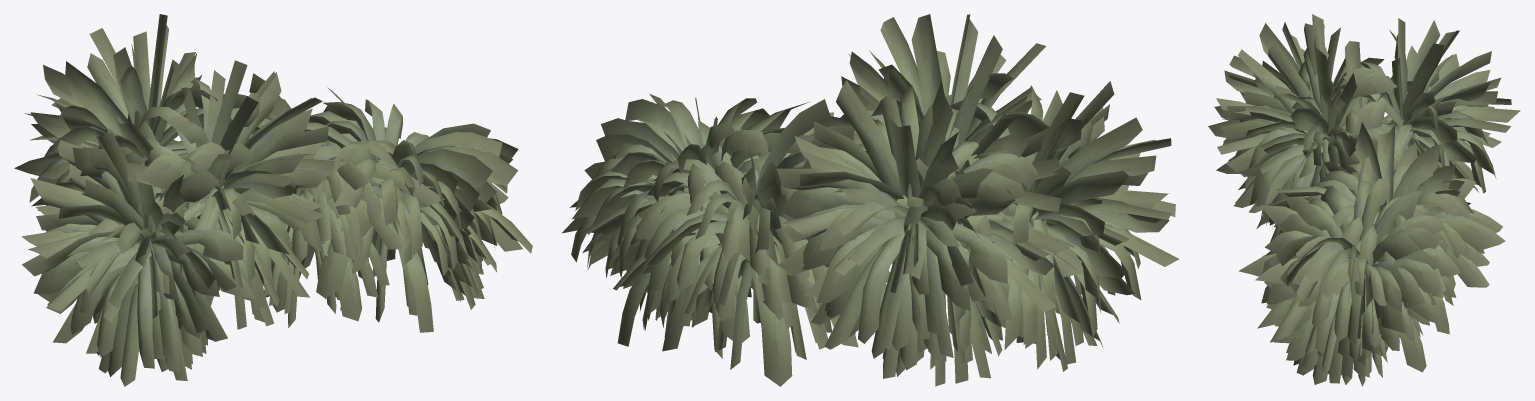
File: MESH_AF08_DracaenaDraco_M_LOD1.fbx
3 views of the same model, side by side, from view 1: azimuth 30°, elevation 25°; view 2: azimuth 150°, elevation 25°; view 3: azimuth 270°, elevation 25° (orthographic). The views are drawn at different scales.
Parts seen in each view (by area): view 1: MI_LOD1_001; view 2: MI_LOD1_001; view 3: MI_LOD1_001.
Boxes of the visible parts, left/top/right/bottom form: MI_LOD1_001: left=14, top=14, right=532, bottom=386; MI_LOD1_001: left=562, top=14, right=1179, bottom=386; MI_LOD1_001: left=1208, top=14, right=1520, bottom=386.
Size of what is drawn, in the model's own units: 542 by 327 by 347.
